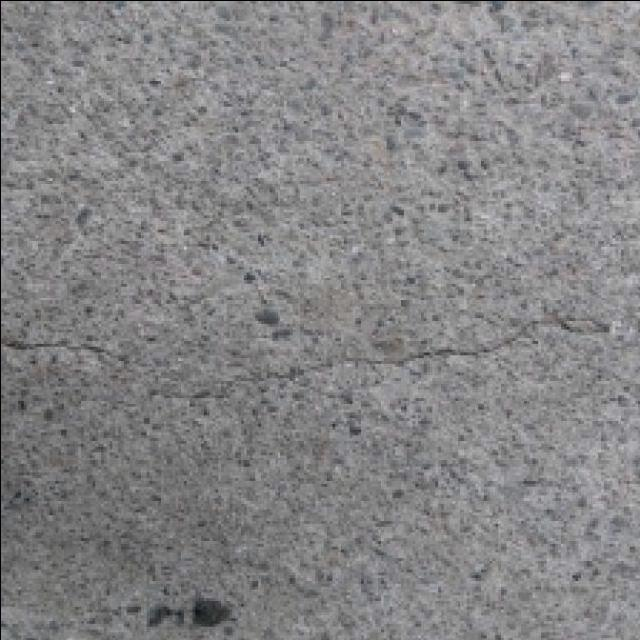SurfaceCrack: (0, 256, 636, 412)
